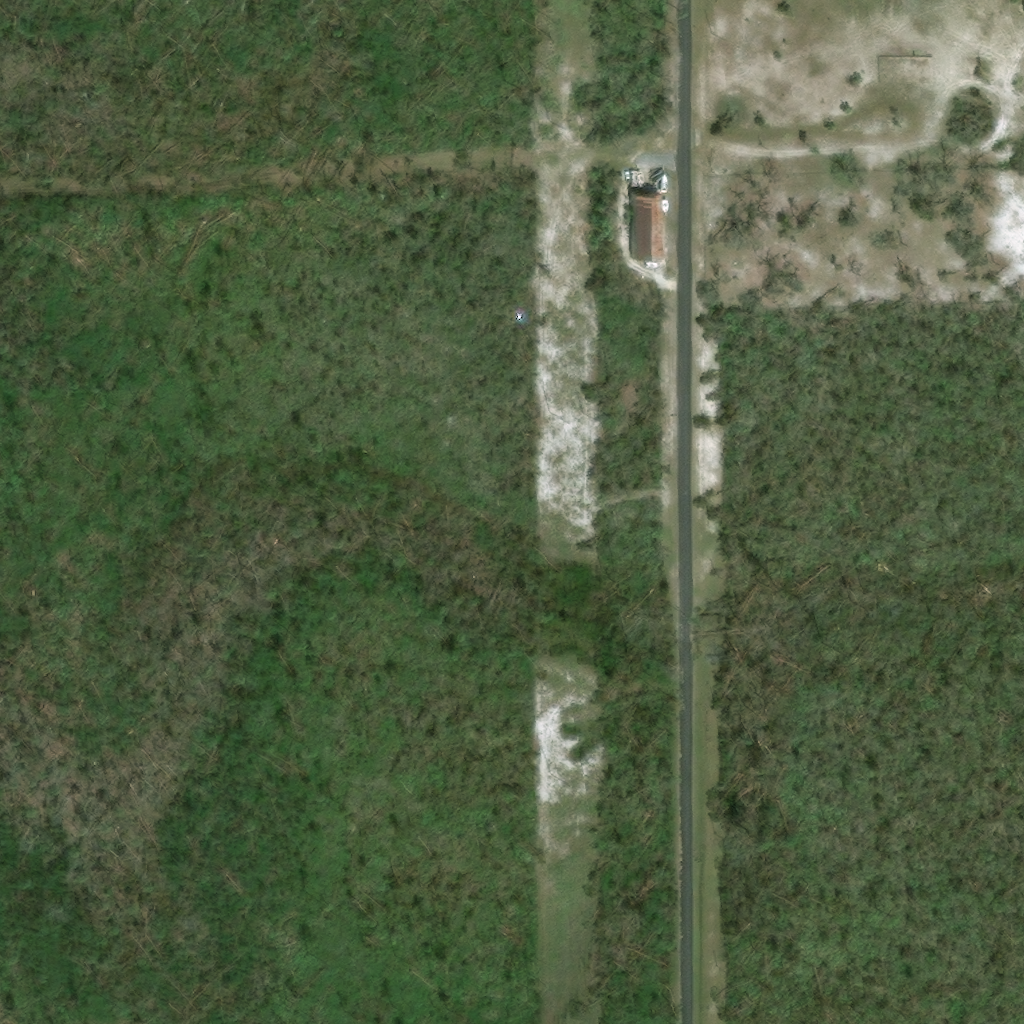minor_damage: (630, 192, 660, 262)
